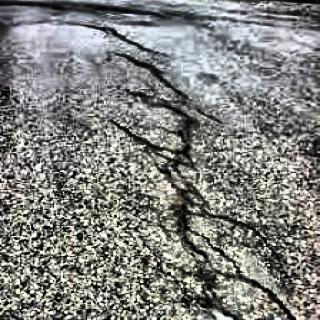crack: (115, 54, 302, 320), (36, 16, 174, 52)
